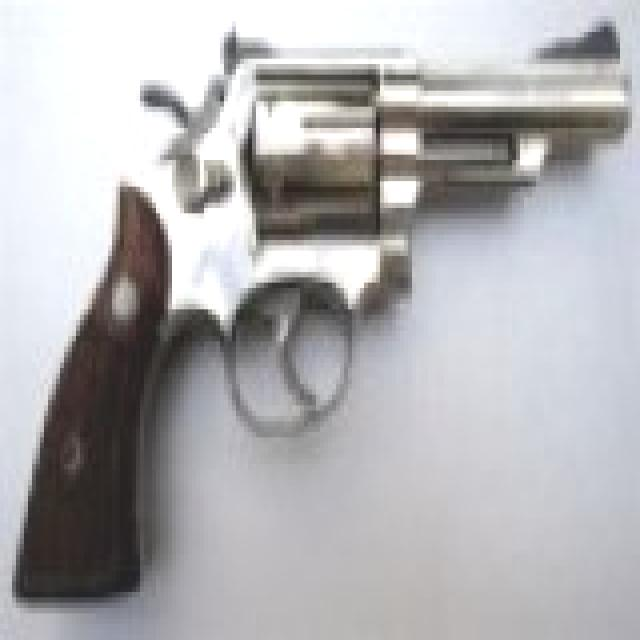pistol: (20, 11, 628, 597)
